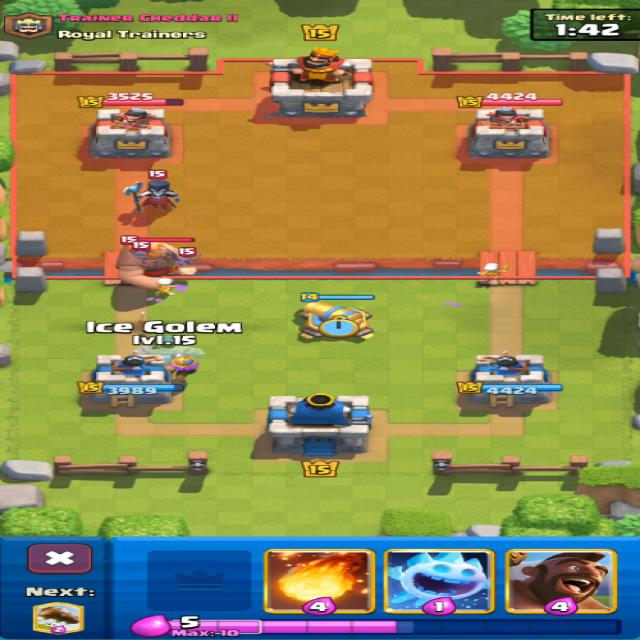Enemy-Bat: (172, 247, 198, 266), (131, 241, 151, 257)
Enemy-Giant: (116, 243, 196, 289)
Enemy-KingTower: (269, 47, 371, 117)
Enemy-NightWitch: (123, 179, 179, 214), (150, 171, 165, 177)
Enemy-PrincessTower: (90, 107, 170, 158), (470, 107, 548, 158)
Player-Cannon: (301, 302, 371, 336)
Player-KingTower: (268, 393, 371, 457)
Player-Musketeer: (166, 353, 198, 383)
Player-PrincessTower: (78, 350, 184, 405), (460, 352, 561, 407)
Player-Skeleton: (156, 279, 173, 294)
